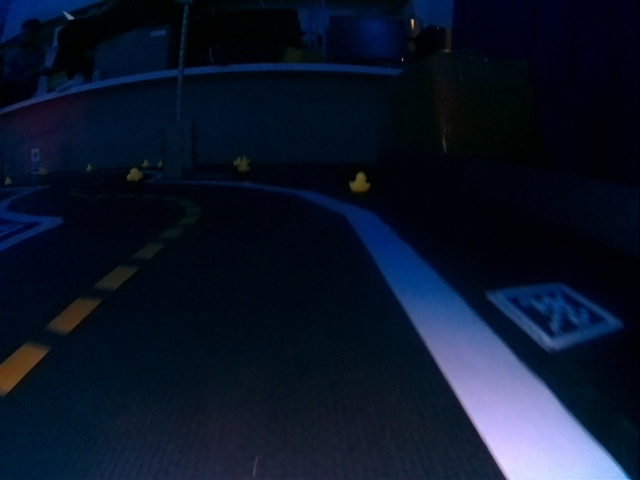Duckie: (350, 172, 370, 191), (128, 168, 140, 179)
QR code: (492, 286, 623, 344)
